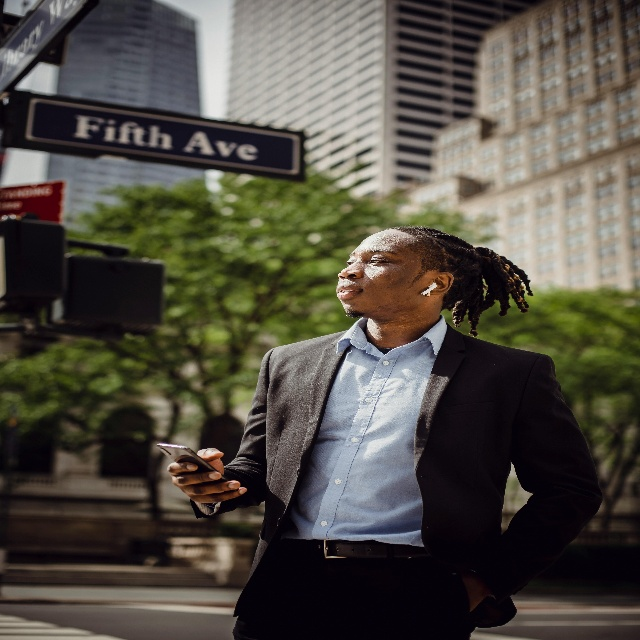Sin_guantes: (166, 443, 246, 501), (466, 574, 489, 618)
